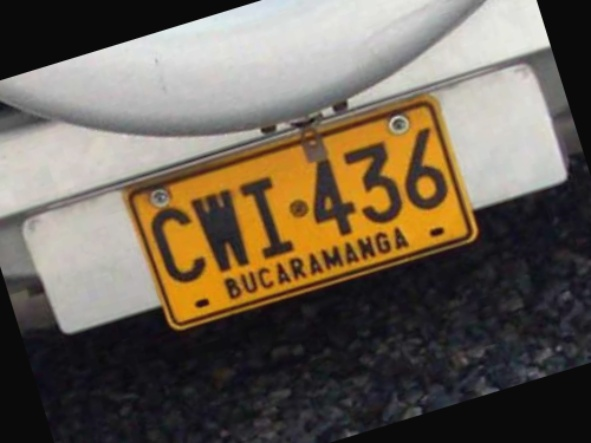placas: (117, 86, 485, 339)
